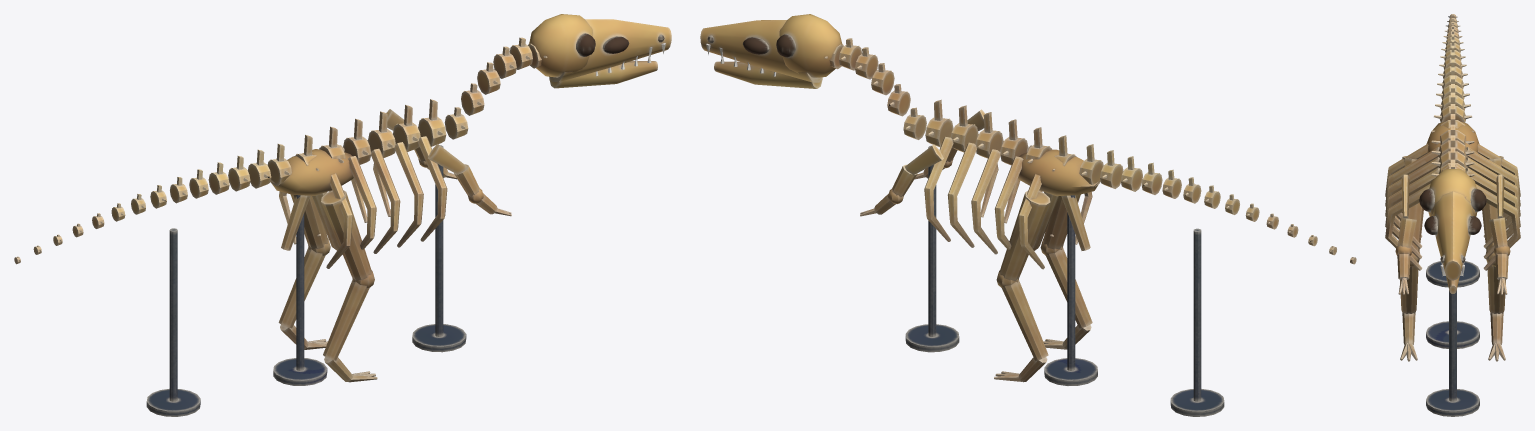
File: skeleton_trex.glb
3 renders of one model, left to right at view 1: azimuth 30°, elevation 25°; view 2: azimuth 150°, elevation 25°; view 3: azimuth 270°, elevation 25°, orthographic.
Visible parts, largest first — view 1: Legs, Mount, Skull, Ribs, Tail, Back, Neck, Arms, Jaw; view 2: Legs, Mount, Skull, Ribs, Tail, Back, Neck, Arms, Jaw; view 3: Ribs, Skull, Legs, Mount, Arms, Tail, Back, Jaw.
Boxes of the visible parts, x1=… form: Legs: x1=270, y1=149, x2=377, y2=382; Mount: x1=146, y1=145, x2=466, y2=416; Skull: x1=529, y1=14, x2=671, y2=81; Ribs: x1=279, y1=134, x2=447, y2=268; Tail: x1=14, y1=143, x2=291, y2=264; Back: x1=294, y1=99, x2=446, y2=170; Neck: x1=444, y1=37, x2=547, y2=139; Arms: x1=386, y1=109, x2=511, y2=216; Jaw: x1=549, y1=54, x2=657, y2=88; Legs: x1=994, y1=149, x2=1099, y2=382; Mount: x1=905, y1=145, x2=1224, y2=416; Skull: x1=700, y1=14, x2=842, y2=82; Ribs: x1=924, y1=134, x2=1092, y2=269; Tail: x1=1079, y1=144, x2=1356, y2=264; Back: x1=925, y1=99, x2=1076, y2=171; Neck: x1=824, y1=38, x2=926, y2=139; Arms: x1=860, y1=109, x2=985, y2=216; Jaw: x1=714, y1=55, x2=822, y2=88; Ribs: x1=1385, y1=143, x2=1520, y2=270; Skull: x1=1419, y1=169, x2=1486, y2=280; Legs: x1=1400, y1=121, x2=1505, y2=361; Mount: x1=1426, y1=261, x2=1479, y2=416; Arms: x1=1395, y1=174, x2=1510, y2=295; Tail: x1=1434, y1=14, x2=1471, y2=122; Back: x1=1431, y1=104, x2=1474, y2=176; Jaw: x1=1443, y1=270, x2=1462, y2=293.
Bounding box in the file's own units: 5.55 × 2.4 × 1.
Materials: 1 (1 with a texture image).
